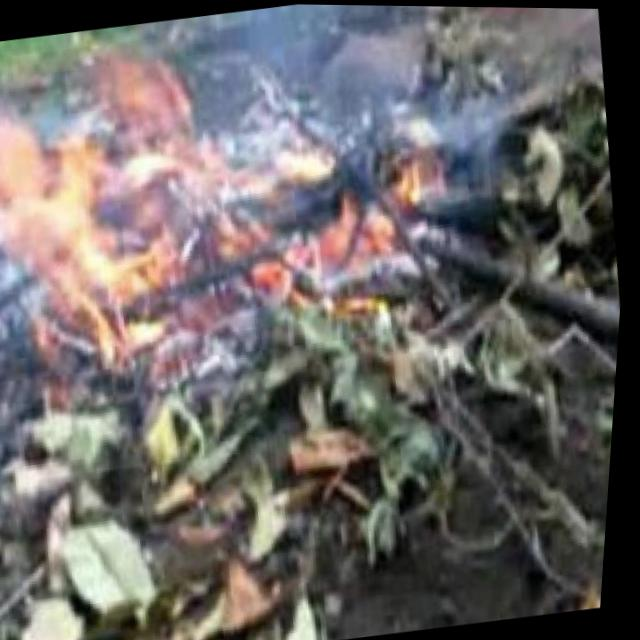Fire: (0, 0, 471, 375)
